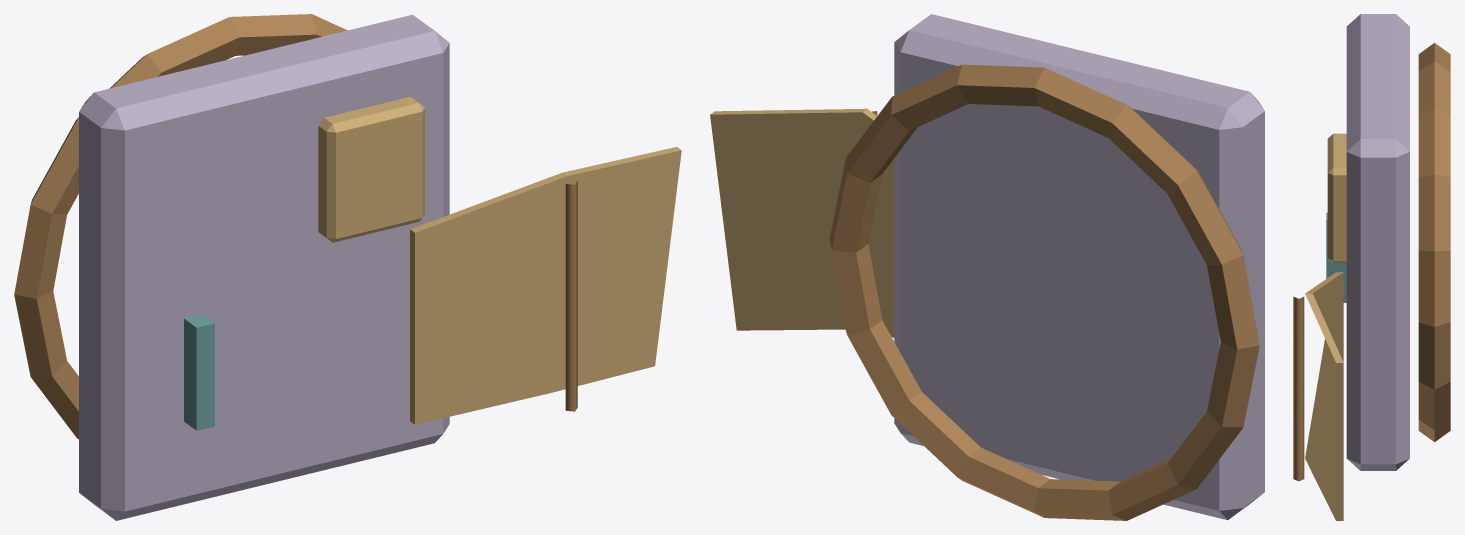
Rendered from longneck_researcher.glb.
3 renders of one model, left to right at view 1: azimuth 30°, elevation 25°; view 2: azimuth 150°, elevation 25°; view 3: azimuth 270°, elevation 25°, orthographic. The views are drawn at different scales.
Visible parts, largest first — view 1: longneck_researcher; view 2: longneck_researcher; view 3: longneck_researcher.
Boxes of the visible parts, x1,y1,x2,y2 form: longneck_researcher: (14,14,681,520); longneck_researcher: (710,14,1264,520); longneck_researcher: (1293,14,1450,520).
Size of the model in its own units: 0.4 by 0.284 by 0.1118.
